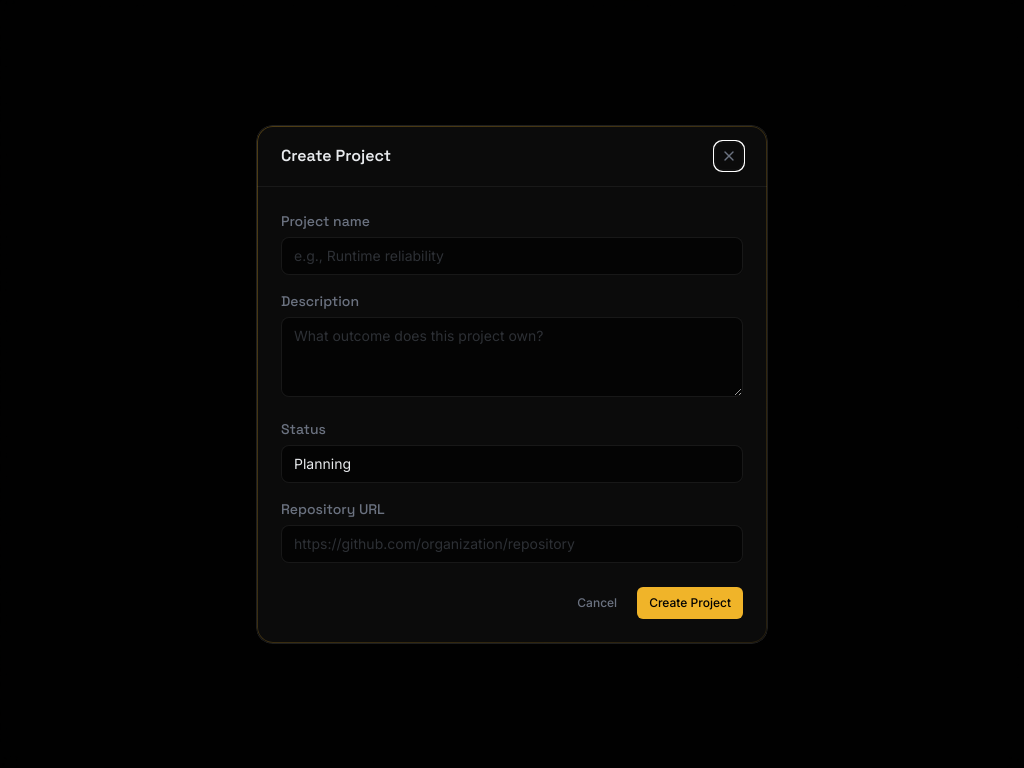
Test: CreateProjectModal › rejects repository URLs with executable schemes
The image size is (1024, 768).
Type "Runtime reliability" into the field labelled "Project name" at (512, 256), box top-left (281, 236), bottom-right (743, 274)
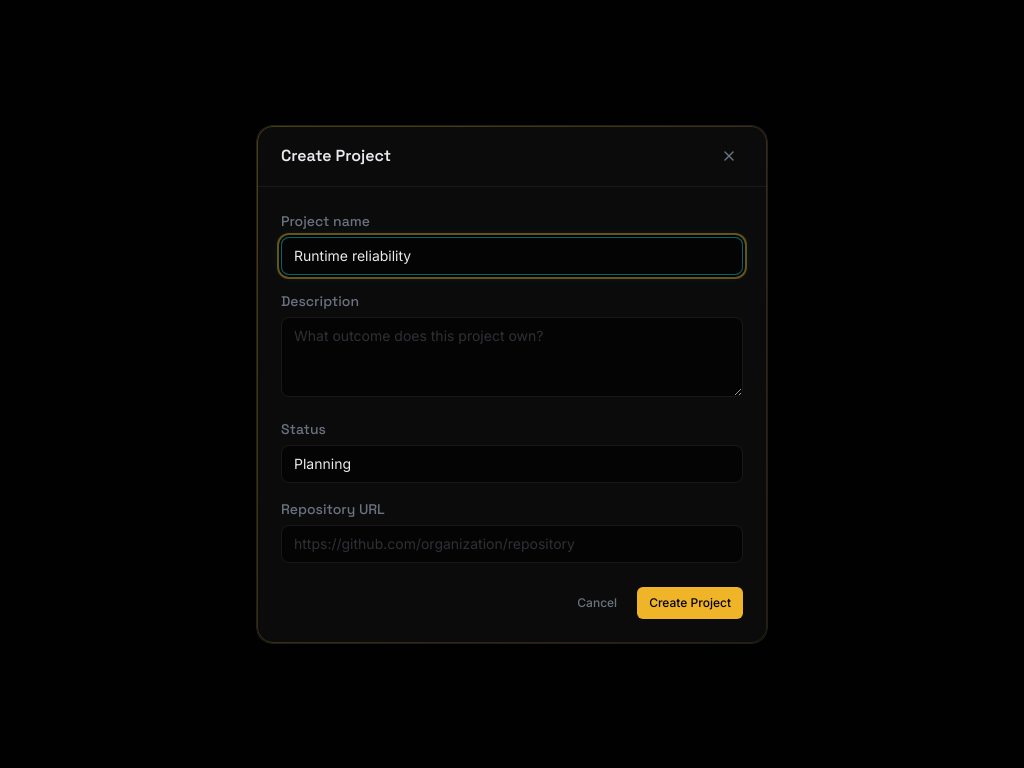
Type "javascript:alert(document.domain)" into the field labelled "Repository URL" at (512, 544), box top-left (281, 524), bottom-right (743, 562)
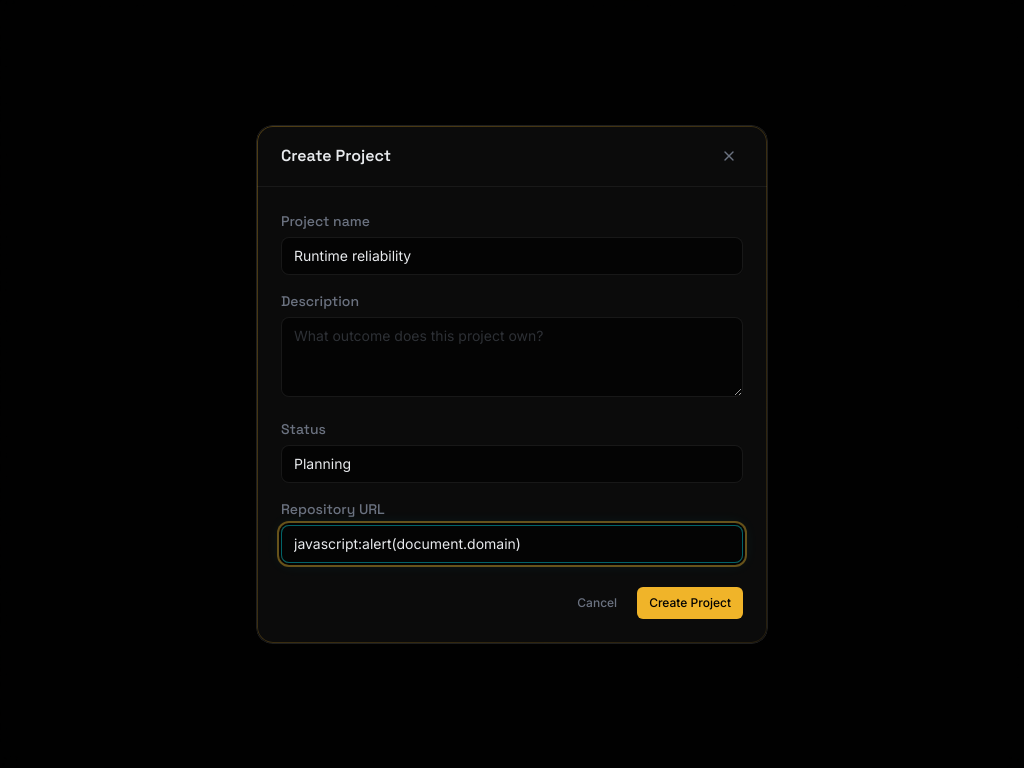
Click the button "Create Project" at (690, 602), box top-left (637, 586), bottom-right (743, 618)
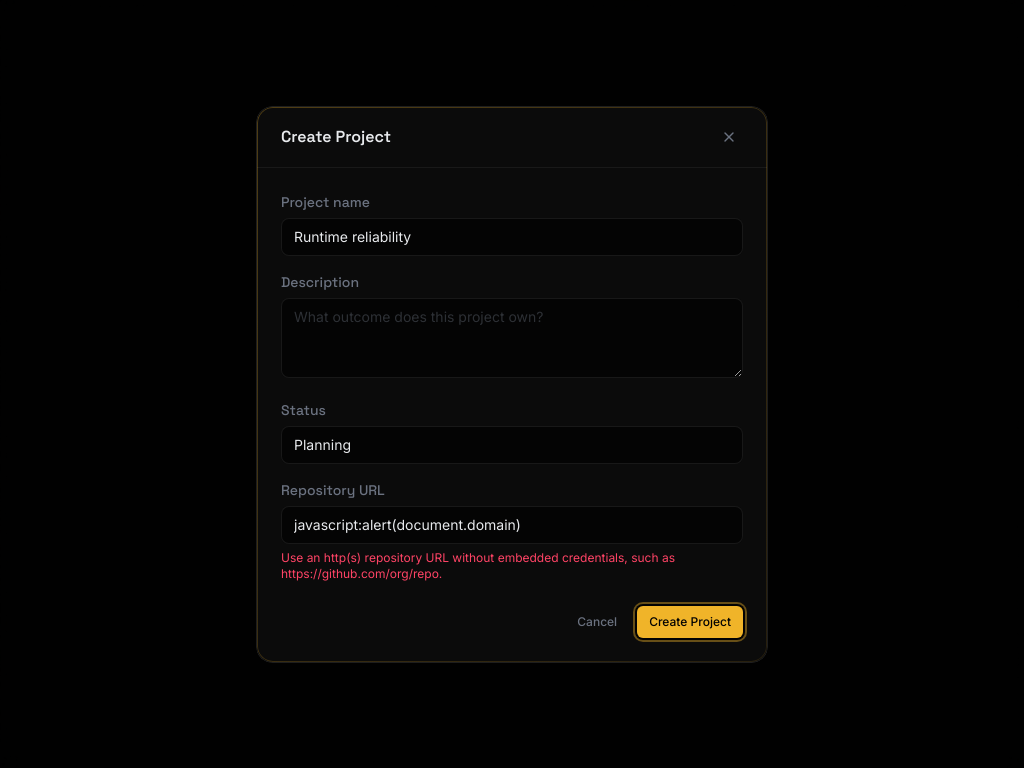
Check: the message shows "Use an http(s) repository URL without embedded credentials, such as https://github.com/org/repo.", box top-left (281, 550), bottom-right (675, 580)
